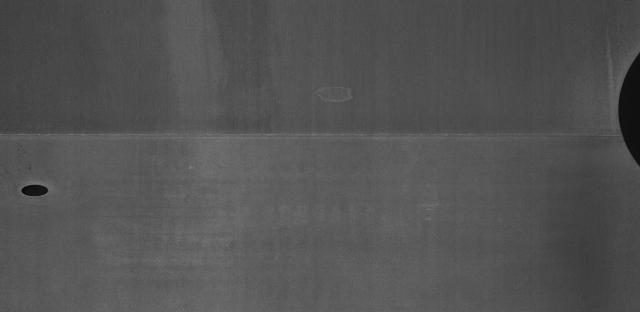punching_hole: (17, 181, 58, 202)
welding_line: (4, 128, 633, 148)
